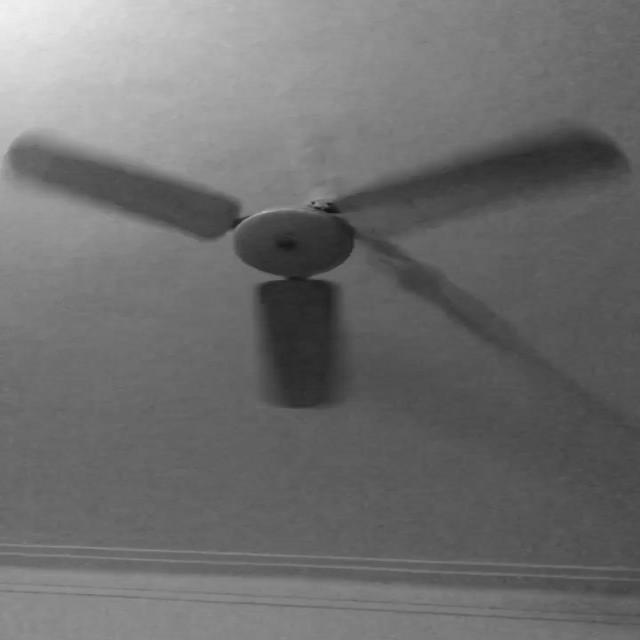fan: (4, 123, 636, 425)
